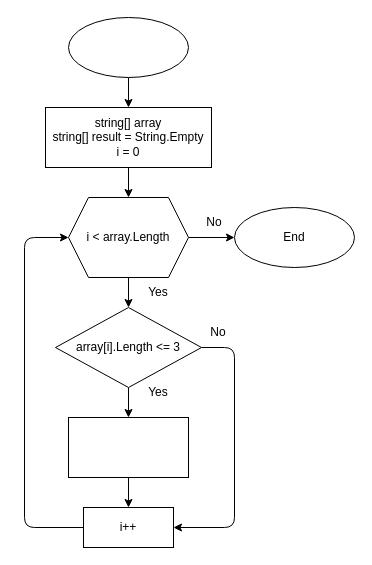
This 372x565 diagram has some shape labels left out. Here are the shapes that lost their labels. From the top down, the centre of each, then its label:
pixel 128 47: Start
pixel 128 447: result += "array[i] "
